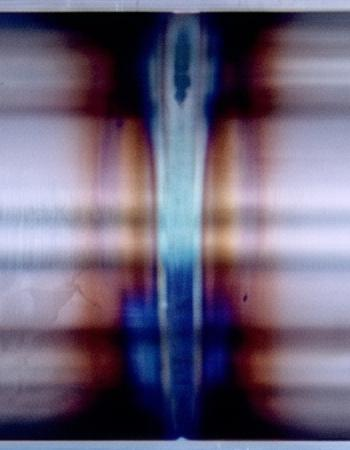soldas: (53, 6, 306, 444)
